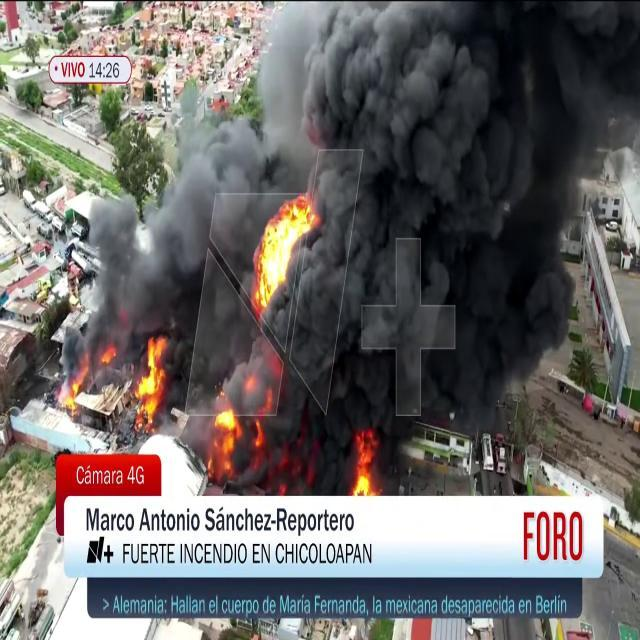Fire: (252, 190, 316, 306), (132, 332, 170, 427), (208, 396, 244, 472), (349, 426, 381, 496), (58, 364, 89, 416)
Smoke: (65, 4, 640, 437), (63, 80, 263, 374)
